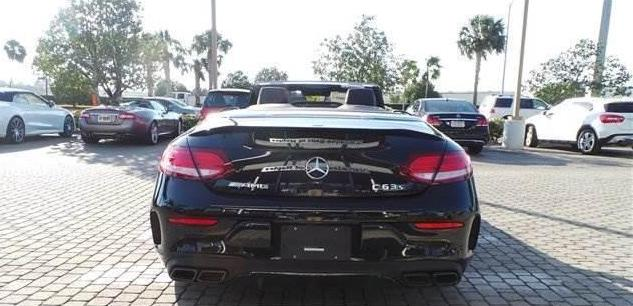C63AMG: (143, 76, 484, 294)
